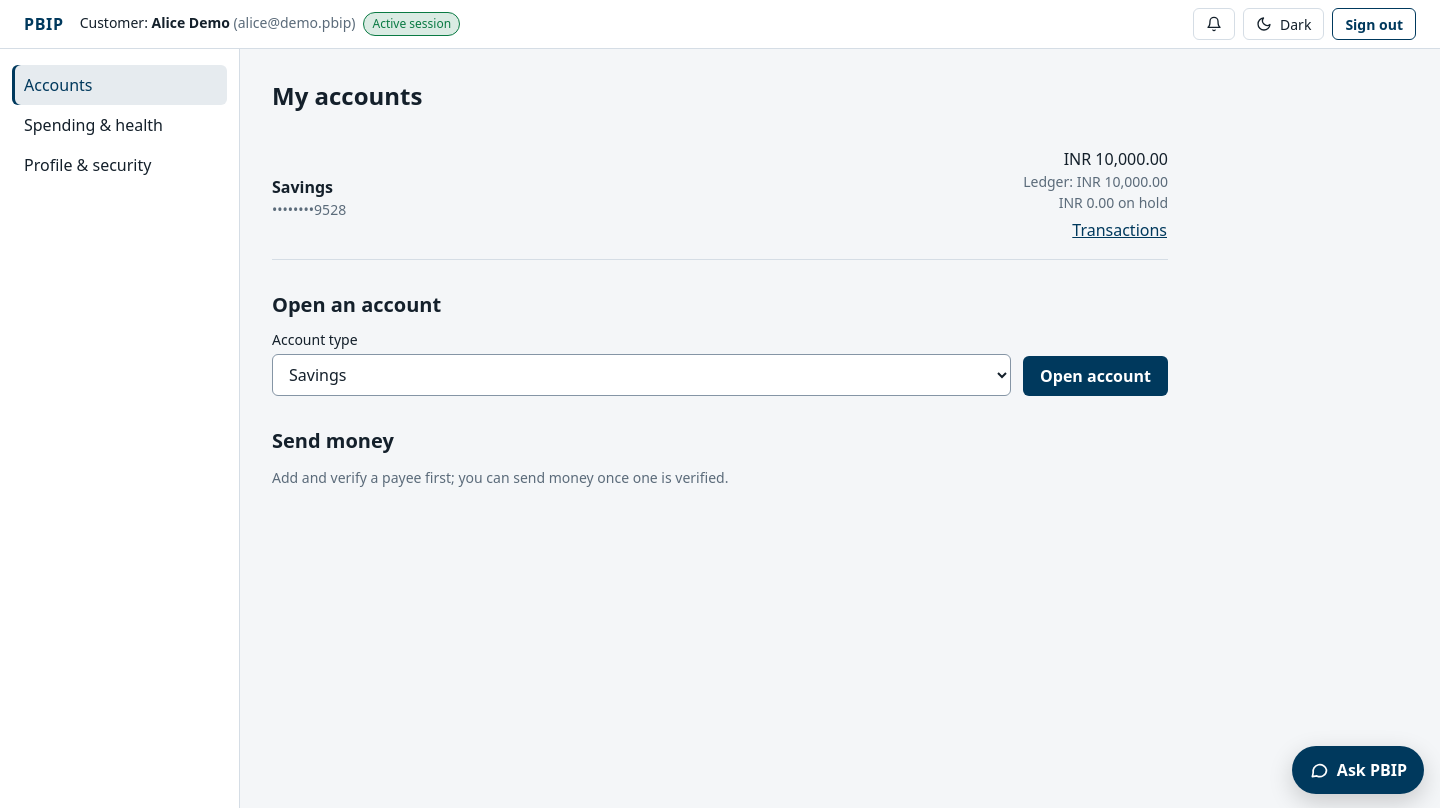
App shell, session bar, and theme toggle (TASK-019) › switches pages between Accounts and Profile cleanly
This screenshot has width=1440, height=808.
Check: the heading "My accounts" is shown, box [272,81,422,111]
Note: Switch to Profile
Step 1. Click the link "Profile & security" → {"x": 88, "y": 165}, box [24,154,151,176]
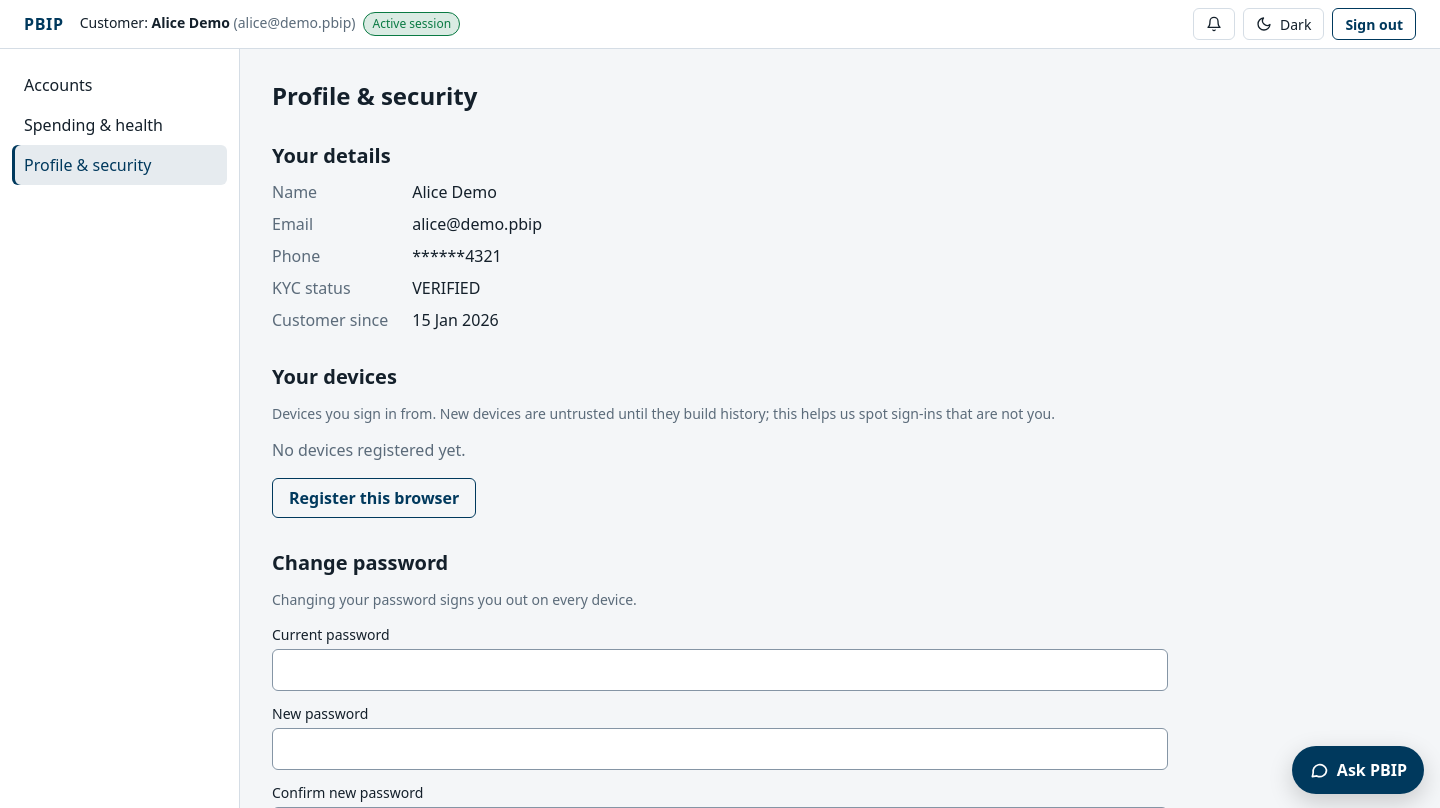
Check: the heading "Profile & security" is shown, box [272,81,478,111]
Note: Switch back to Accounts
Step 2. Click the link "Accounts" → {"x": 58, "y": 85}, box [24,74,92,96]
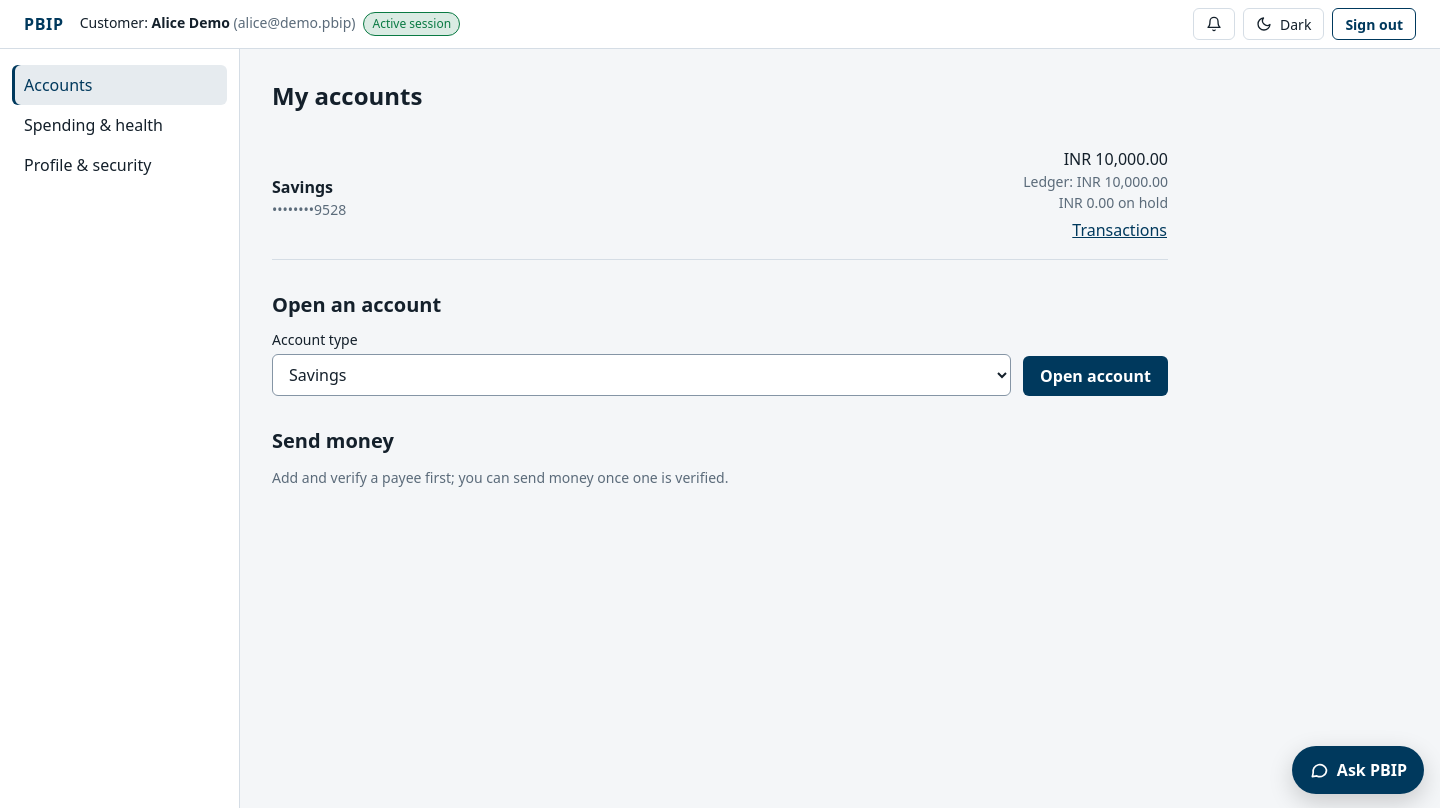
Check: the heading "My accounts" is shown, box [272,81,422,111]
